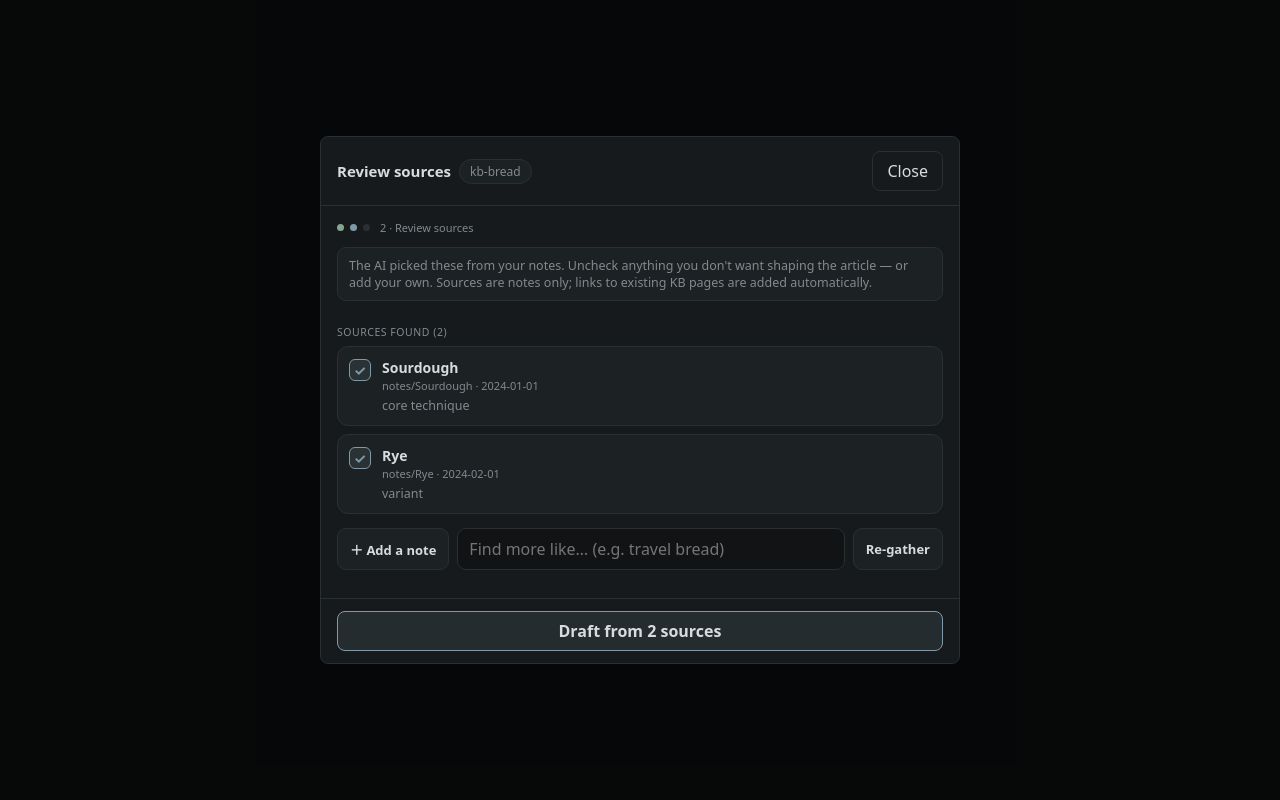
RebuildPanel — draft (Stage 3) › a truncated draft warns and offers re-draft with more room
Step 1. Click the button "Draft from 2 sources" → [640, 631], box [337, 611, 943, 651]
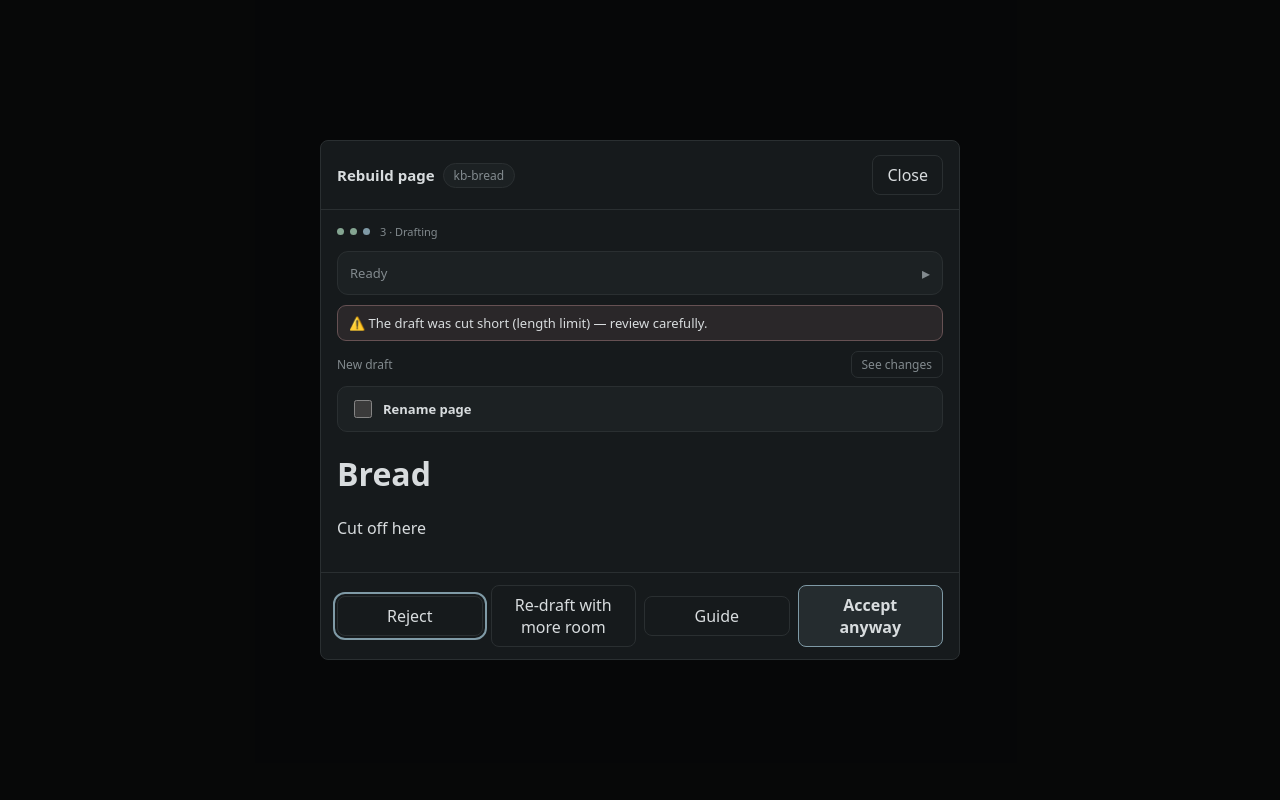
Result: the text "cut short" is shown at [369, 314, 707, 332]
Step 2. Click the button "Re-draft with more room" → [563, 616], box [490, 585, 636, 647]
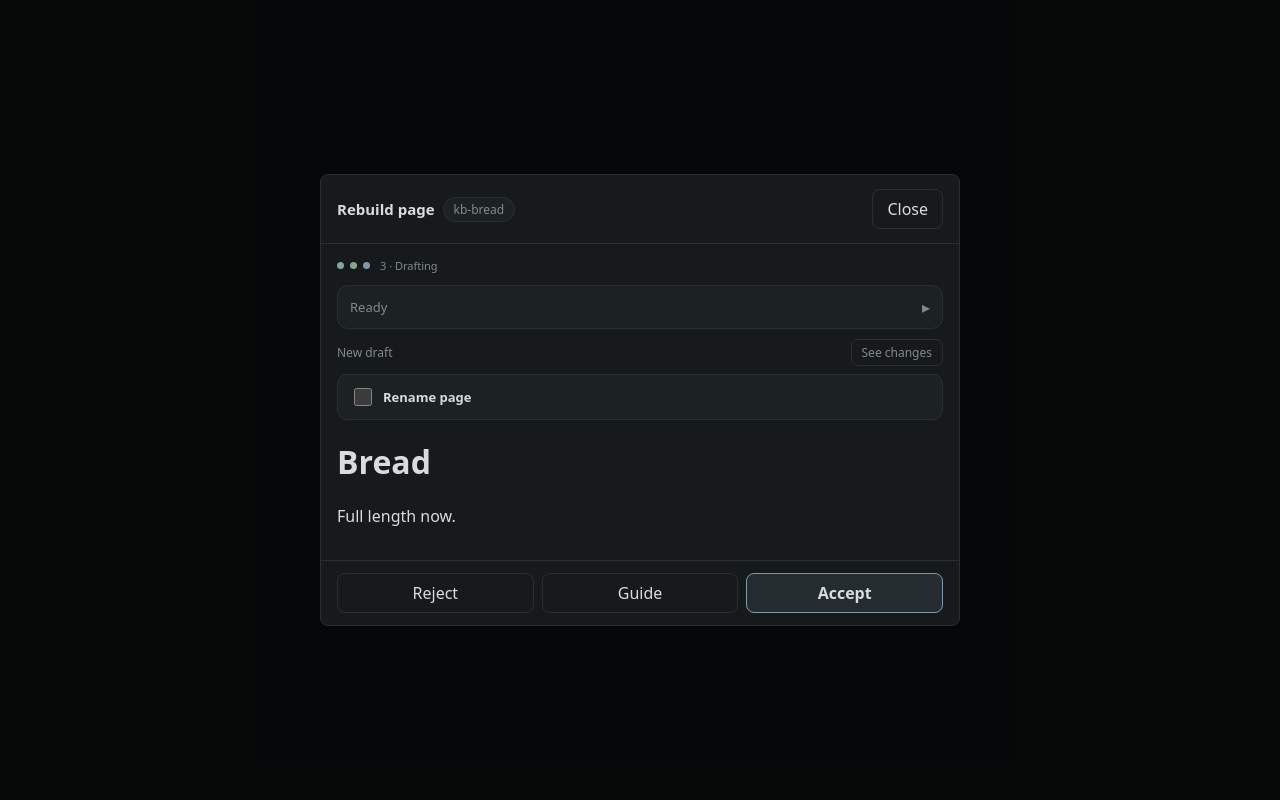
Result: the text "Full length now." is shown at [337, 505, 456, 527]
